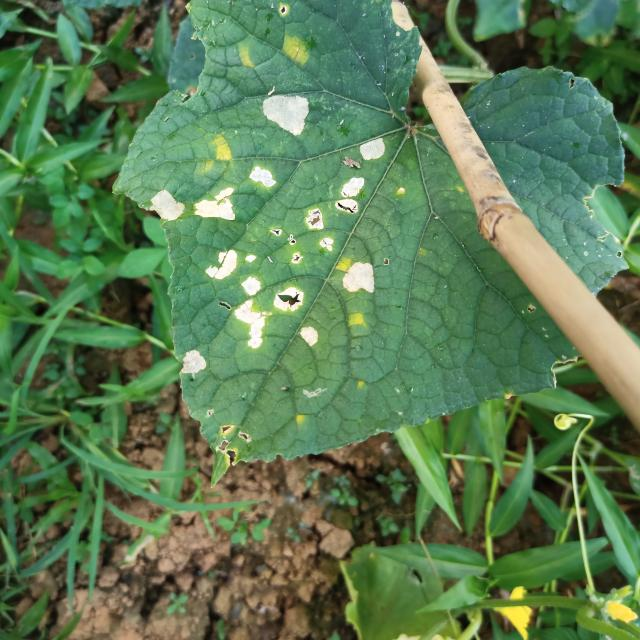disease_cucumber: (201, 246, 319, 356), (298, 176, 368, 253), (144, 184, 240, 229), (255, 84, 319, 142), (195, 129, 234, 174), (274, 30, 314, 71), (355, 134, 392, 168), (344, 262, 379, 296), (177, 346, 210, 380), (250, 164, 280, 191), (230, 44, 259, 71), (343, 311, 370, 333), (334, 255, 351, 272)
